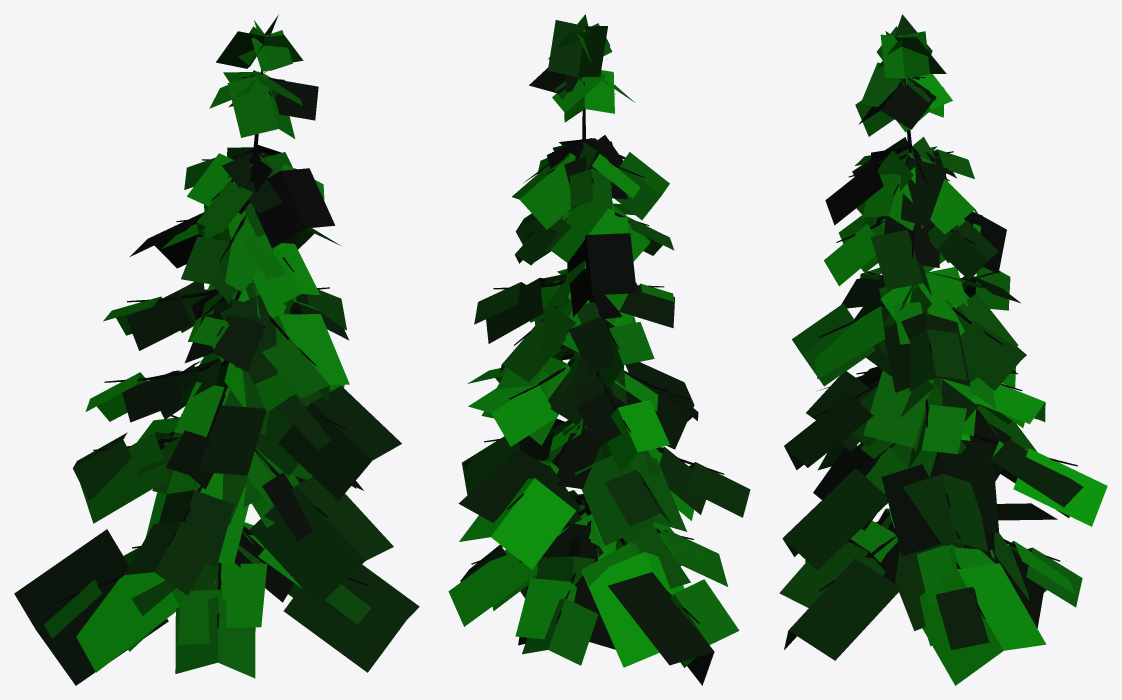
3 views of the same model, side by side, from view 1: azimuth 30°, elevation 25°; view 2: azimuth 150°, elevation 25°; view 3: azimuth 270°, elevation 25° (orthographic). The views are drawn at different scales.
Visible parts, largest first — view 1: IL3DN_Tree_Pine_01_LOD0; view 2: IL3DN_Tree_Pine_01_LOD0; view 3: IL3DN_Tree_Pine_01_LOD0.
Boxes of the visible parts, x1=… form: IL3DN_Tree_Pine_01_LOD0: x1=14, y1=14, x2=419, y2=685; IL3DN_Tree_Pine_01_LOD0: x1=448, y1=14, x2=750, y2=685; IL3DN_Tree_Pine_01_LOD0: x1=779, y1=14, x2=1107, y2=685.
Size of what is drawn, in the model's own units: 277 by 551 by 259.
